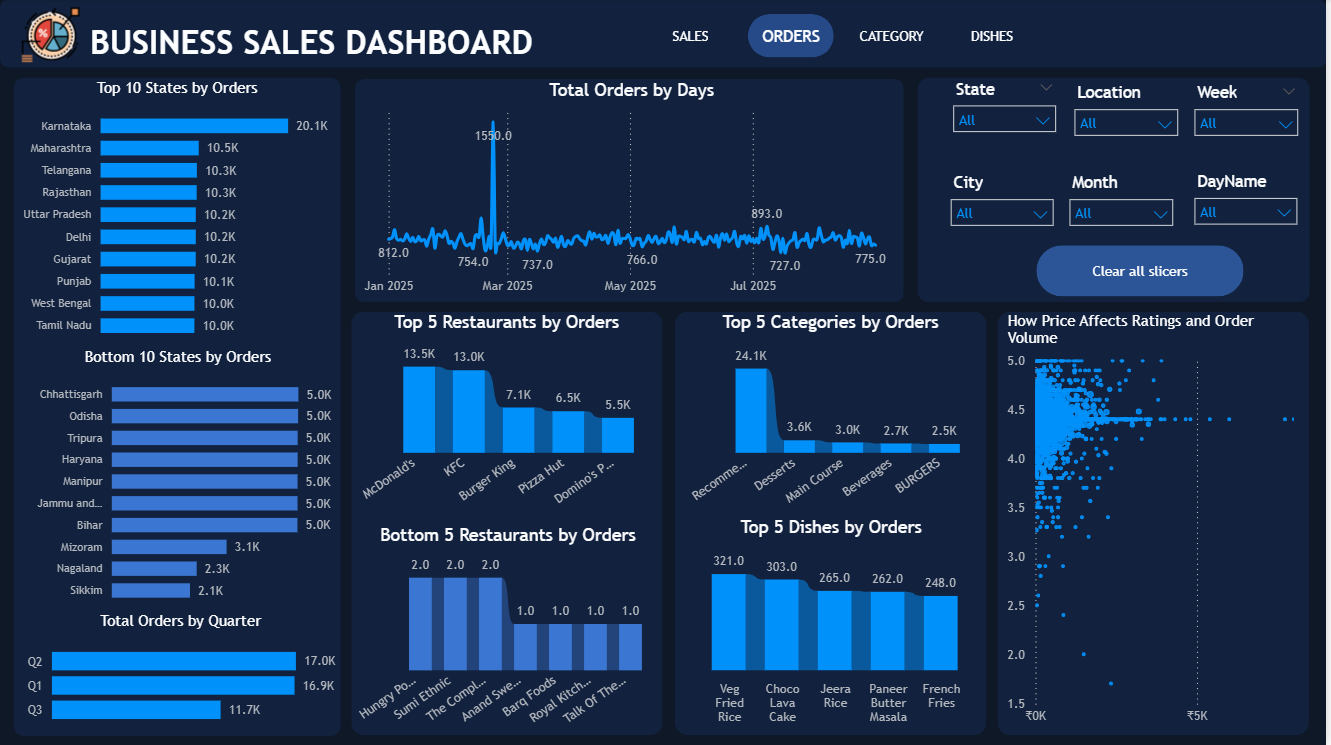

Layout of this report page (visuals, bound fields, positions):
{"tool":"powerbi","page":{"name":"ORDERS","canvas":[1280,720],"ordinal":1},"visuals":[{"type":"shape","box":[885.1,75.5,378.7,216.8],"z":0},{"type":"shape","box":[0,0,1280,66.4],"z":1000},{"type":"shape","box":[343.1,76.8,529.7,215.4],"z":2000},{"type":"shape","box":[13.7,75.5,315.6,635.3],"z":3000},{"type":"shape","box":[338.9,301.9,300.5,408.9],"z":4000},{"type":"shape","box":[651.8,301.9,300.5,408.9],"z":5000},{"type":"shape","box":[963.3,301.9,300.5,408.9],"z":6000},{"type":"textbox","box":[30.2,0,540.7,65.9],"z":7000},{"type":"image","box":[13.7,4.1,71.4,61.7],"z":8000},{"type":"clusteredBarChart","title":"Top 10 States by Orders","fields":{"Category":["Business_sales_Data.State"],"Y":["DAX Table.Total Orders"]},"box":[13.7,76.8,315.6,259.3],"z":9000},{"type":"slicer","fields":{"Values":["Business_sales_Data.Location"]},"box":[1026.1,75.5,120,76],"z":10000},{"type":"columnChart","title":"Top 5 Restaurants by Orders","fields":{"Category":["Business_sales_Data.Restaurant_Name"],"Y":["DAX Table.Total Orders"]},"box":[340.3,301.9,297.8,197.6],"z":11000},{"type":"columnChart","title":"Top 5 Dishes by Orders","fields":{"Category":["Business_sales_Data.Dish_Name"],"Y":["DAX Table.Total Orders"]},"box":[653.2,499.5,299.1,208.6],"z":12000},{"type":"slicer","fields":{"Values":["Business_sales_Data.State"]},"box":[909.8,72.7,119.4,75.5],"z":13000},{"type":"columnChart","title":"Top 5 Categories by Orders","fields":{"Category":["Business_sales_Data.Category"],"Y":["DAX Table.Total Orders"]},"box":[651.8,301.9,300.5,197.6],"z":14000},{"type":"pageNavigator","box":[624.9,14.5,376.4,42.2],"z":15000},{"type":"slicer","fields":{"Values":["Business_sales_Data.City"]},"box":[907,163.3,119.4,75.5],"z":16000},{"type":"clusteredBarChart","title":"Total Orders by Quarter","fields":{"Category":["Date_table.Quarter"],"Y":["DAX Table.Total Orders"]},"box":[19.2,591.4,310.1,119.4],"z":17000},{"type":"slicer","fields":{"Values":["Date_table.DayName"]},"box":[1143.1,161.9,119.4,75.5],"z":18000},{"type":"slicer","fields":{"Values":["Date_table.Month"]},"box":[1022.3,163.3,120.8,75.5],"z":19000},{"type":"slicer","fields":{"Values":["Date_table.Week"]},"box":[1143.1,75.5,120.8,76.8],"z":20000},{"type":"actionButton","box":[1000.3,237.4,200.3,49.4],"z":21000},{"type":"lineChart","title":"Total Orders by Days","fields":{"Y":["DAX Table.Total Orders"],"Category":["Business_sales_Data.Order_Date"]},"box":[345.8,76.8,526.9,215.4],"z":22000},{"type":"clusteredBarChart","title":"Bottom 10 States by Orders","fields":{"Category":["Business_sales_Data.State"],"Y":["DAX Table.Total Orders"]},"box":[17.8,336.2,307.4,255.2],"z":23000},{"type":"columnChart","title":"Bottom 5 Restaurants by Orders","fields":{"Category":["Business_sales_Data.Restaurant_Name"],"Y":["DAX Table.Total Orders"]},"box":[341.7,506.3,297.8,204.5],"z":24000},{"type":"scatterChart","title":"How Price Affects Ratings and Order Volume","fields":{"Y":["Avg(Business_sales_Data.Rating)"],"X":["Business_sales_Data.Price"],"Size":["DAX Table.Total Orders"]},"box":[967.4,301.9,296.4,406.2],"z":25000}]}

Visuals, with their boxes in screenshot pixels (x1, y1, x2, y2), scaled from the page's 1280x720 canvas onto the 1331x745 screenshot:
shape: l=920, t=78, r=1314, b=302
shape: l=0, t=0, r=1330, b=69
shape: l=357, t=79, r=908, b=302
shape: l=14, t=78, r=342, b=735
shape: l=352, t=312, r=665, b=735
shape: l=678, t=312, r=990, b=735
shape: l=1002, t=312, r=1314, b=735
textbox: l=31, t=0, r=594, b=68
image: l=14, t=4, r=88, b=68
"Top 10 States by Orders" clusteredBarChart: l=14, t=79, r=342, b=348
slicer - Business_sales_Data.Location: l=1067, t=78, r=1192, b=157
"Top 5 Restaurants by Orders" columnChart: l=354, t=312, r=664, b=517
"Top 5 Dishes by Orders" columnChart: l=679, t=517, r=990, b=733
slicer - Business_sales_Data.State: l=946, t=75, r=1070, b=153
"Top 5 Categories by Orders" columnChart: l=678, t=312, r=990, b=517
pageNavigator: l=650, t=15, r=1041, b=59
slicer - Business_sales_Data.City: l=943, t=169, r=1067, b=247
"Total Orders by Quarter" clusteredBarChart: l=20, t=612, r=342, b=735
slicer - Date_table.DayName: l=1189, t=168, r=1313, b=246
slicer - Date_table.Month: l=1063, t=169, r=1189, b=247
slicer - Date_table.Week: l=1189, t=78, r=1314, b=158
actionButton: l=1040, t=246, r=1248, b=297
"Total Orders by Days" lineChart: l=360, t=79, r=907, b=302
"Bottom 10 States by Orders" clusteredBarChart: l=19, t=348, r=338, b=612
"Bottom 5 Restaurants by Orders" columnChart: l=355, t=524, r=665, b=735
"How Price Affects Ratings and Order Volume" scatterChart: l=1006, t=312, r=1314, b=733
